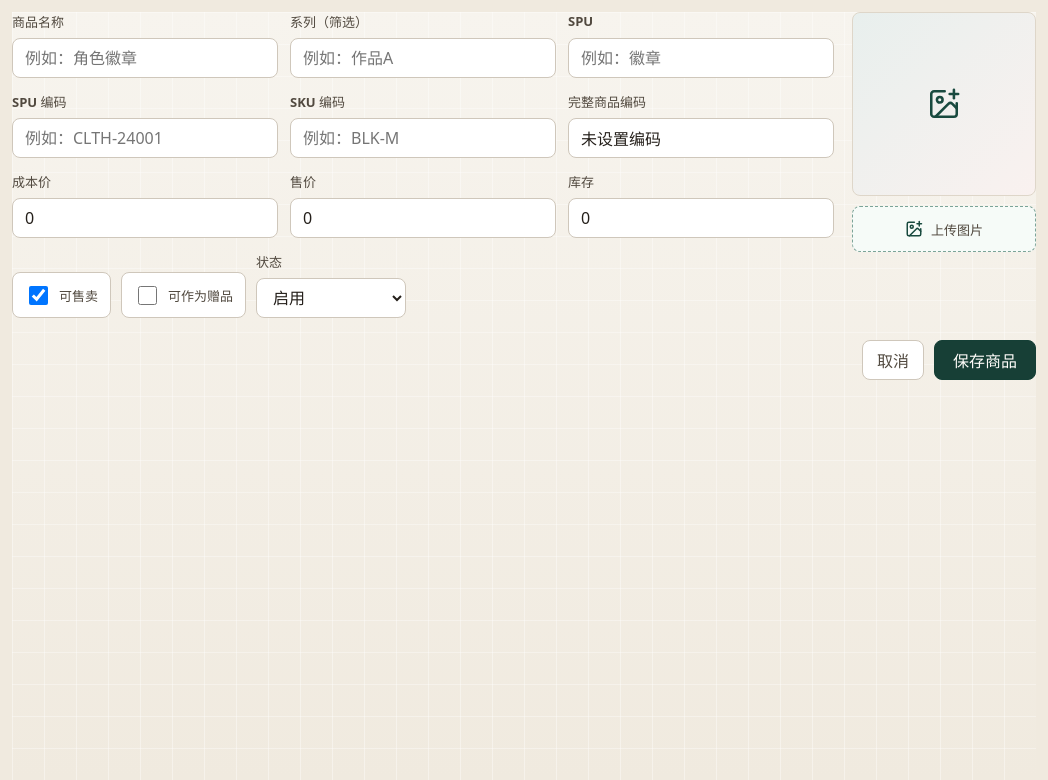
Test: rejects SKU code that repeats SPU code content
Type "黑色中码衣服" into the field labelled "商品名称" at (145, 58), box [12, 38, 278, 78]
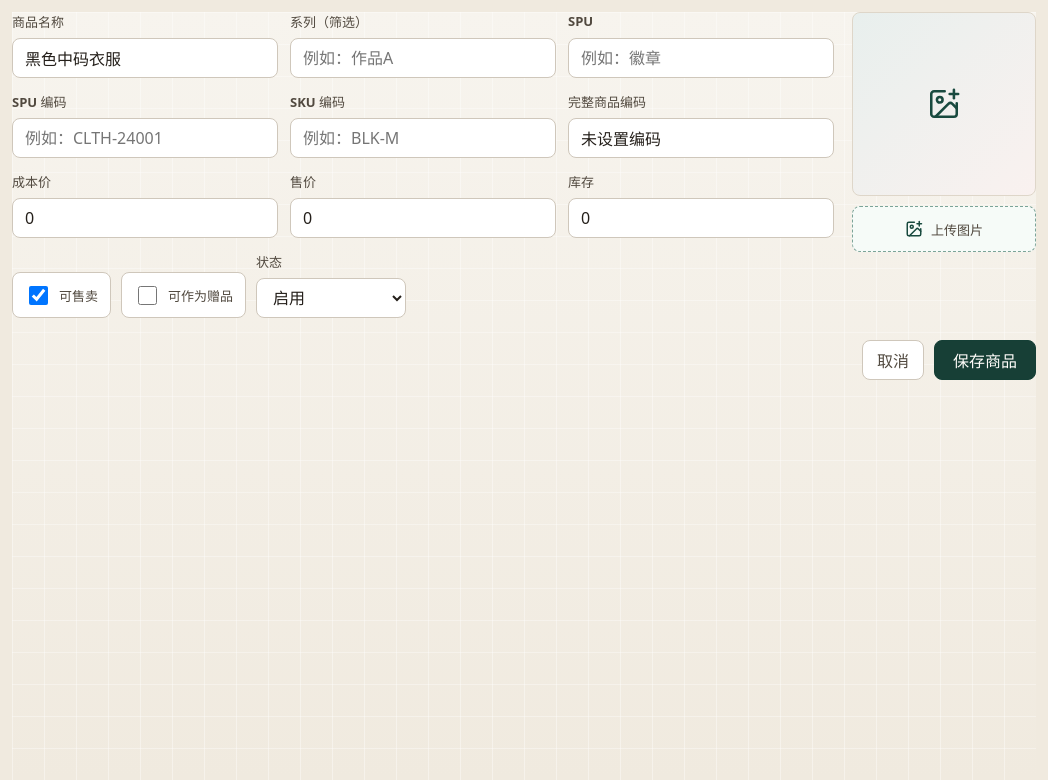
Type "服装" into the field labelled "SPU" at (701, 58), box [568, 38, 834, 78]
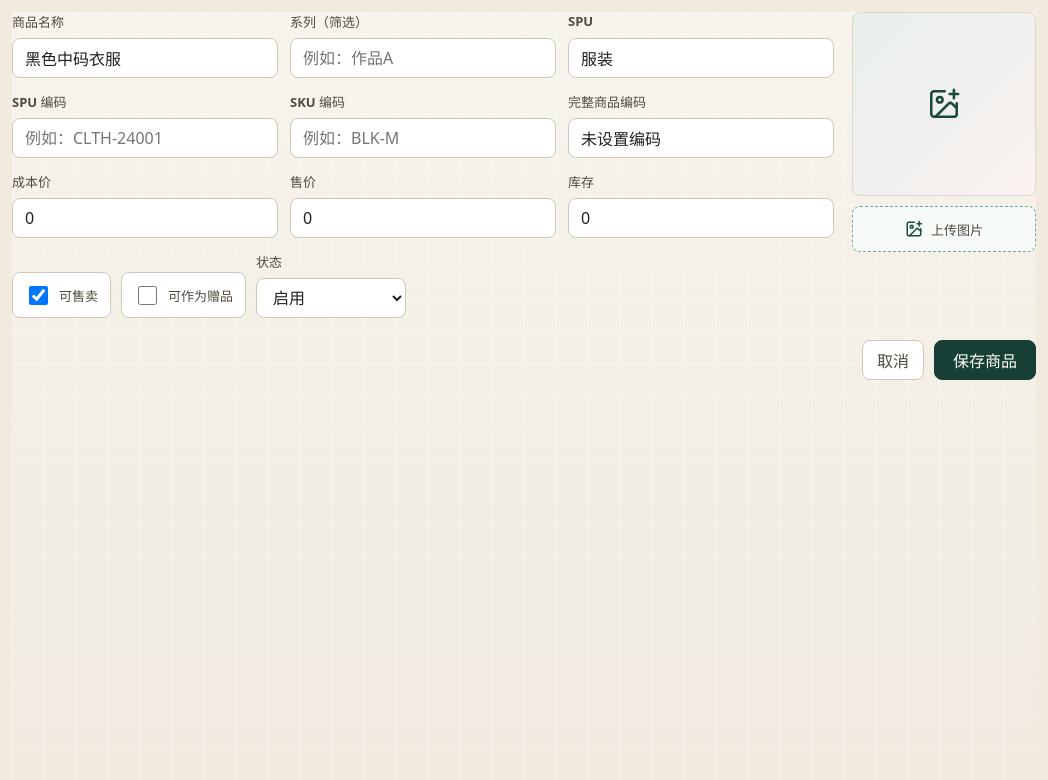
Type "CLTH-24001" into the field labelled "SPU 编码" at (145, 138), box [12, 118, 278, 158]
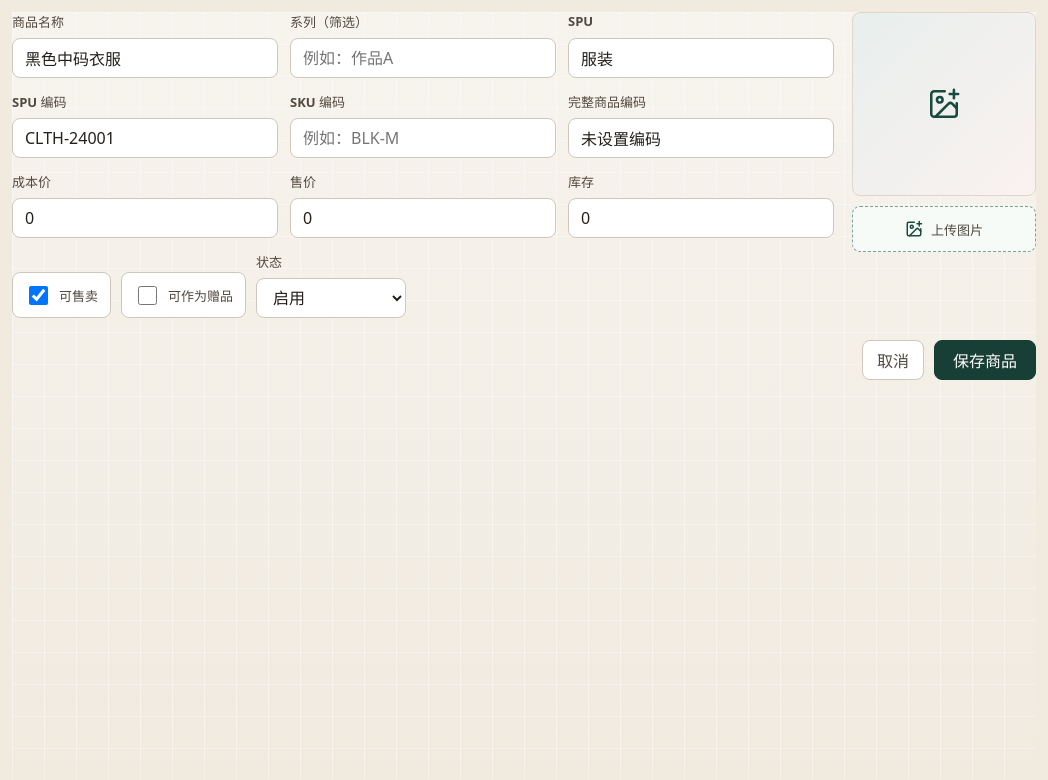
Type "CLTH-24001-BLK-M" into the field labelled "SKU 编码" at (423, 138), box [290, 118, 556, 158]
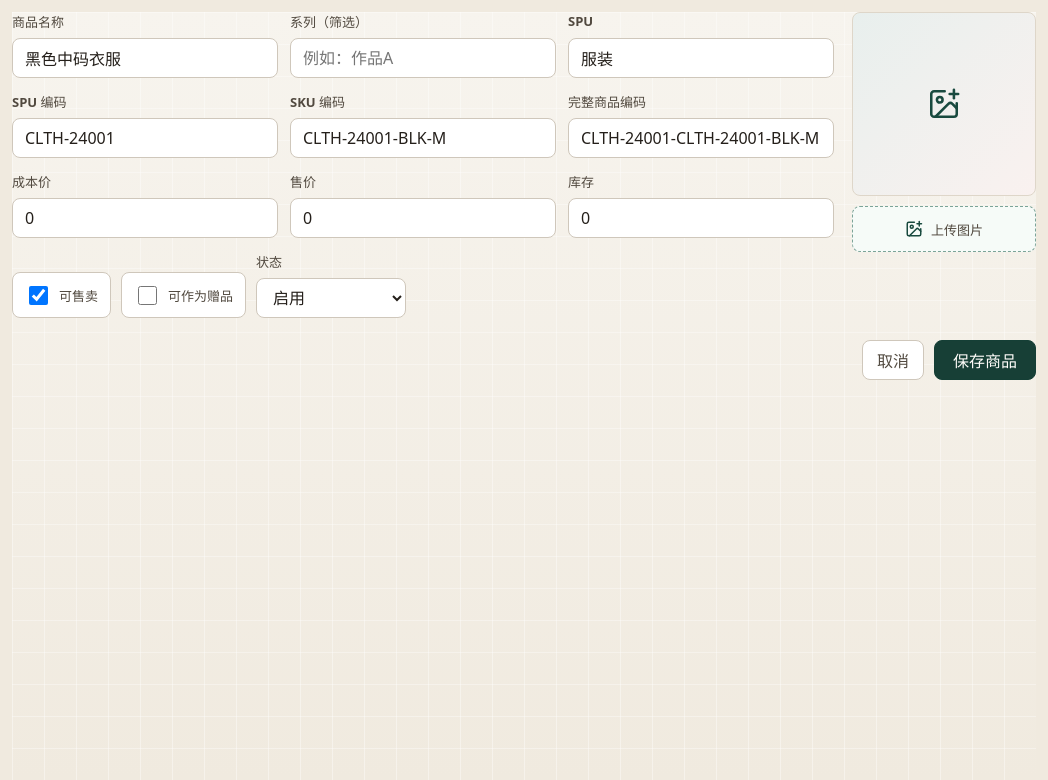
Click the button "保存商品" at (985, 360), box [934, 340, 1036, 380]
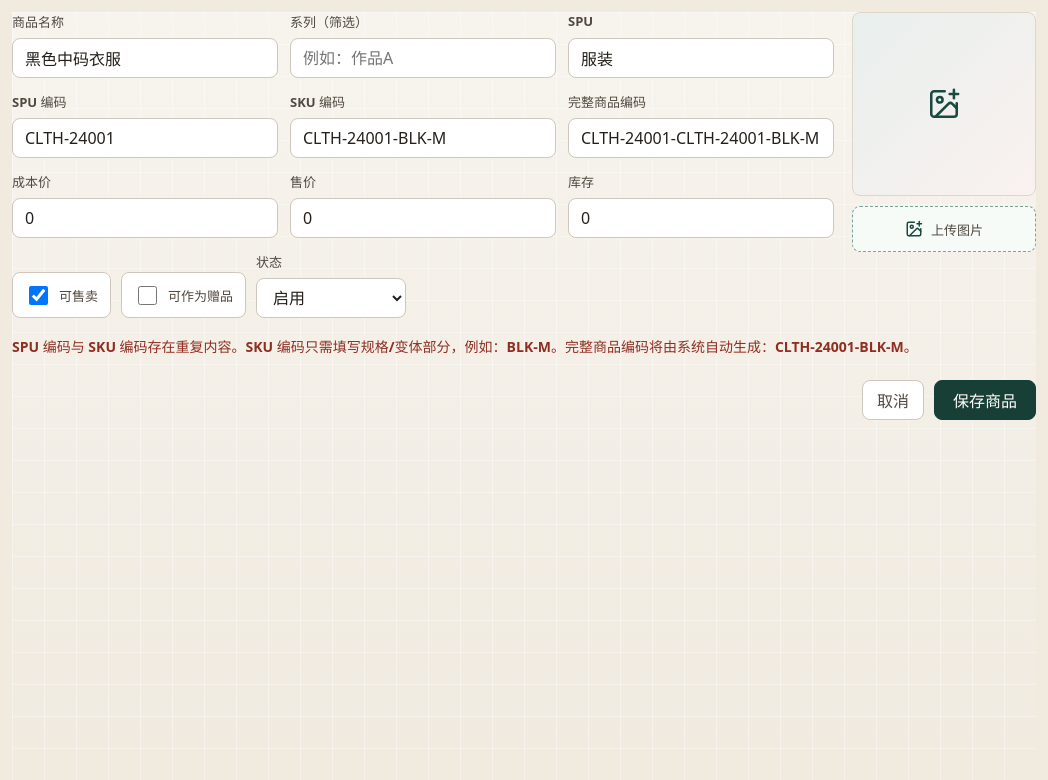
Expected: the text "SPU 编码与 SKU 编码存在重复内容。SKU 编码只需填写规格/变体部分，例如：BLK-M。完整商品编码将由系统自动生成：CLTH-24001-BLK-M。" is shown, [12, 336, 1036, 358]
